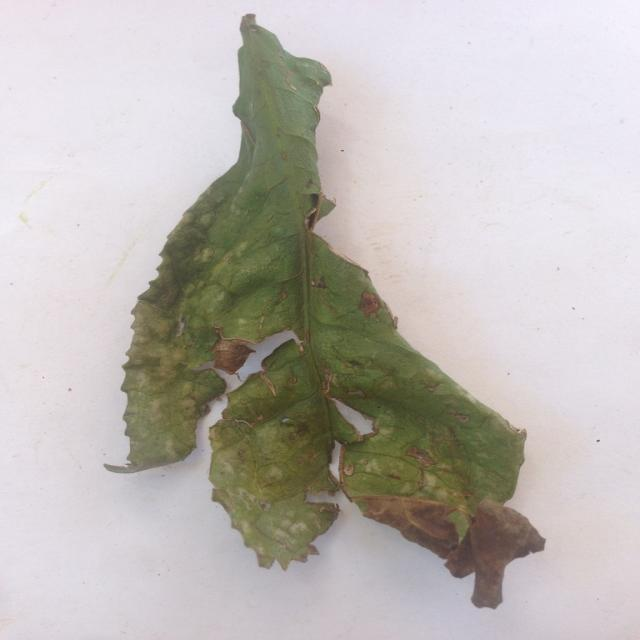Brown Blight: (145, 15, 572, 624)
